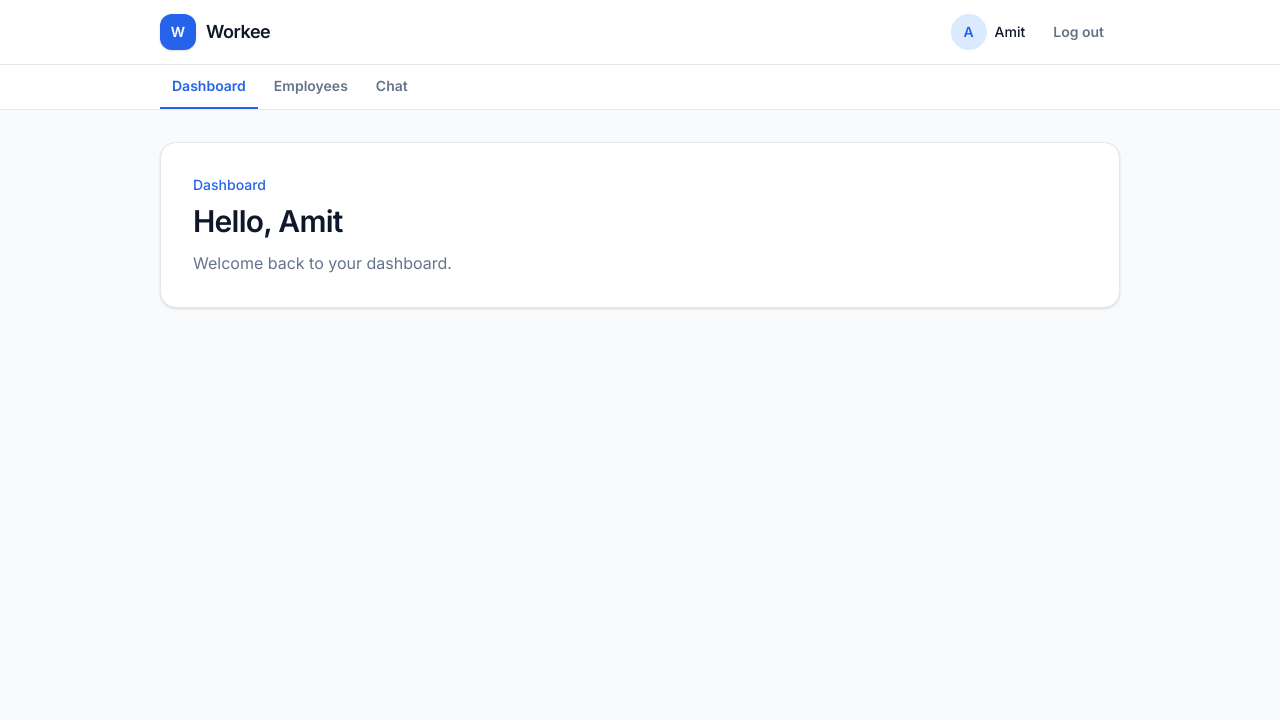
Test: Dashboard page › logs the user out and returns to login
Click the button "Log out" at (1079, 32), box 1037,10 -> 1120,54
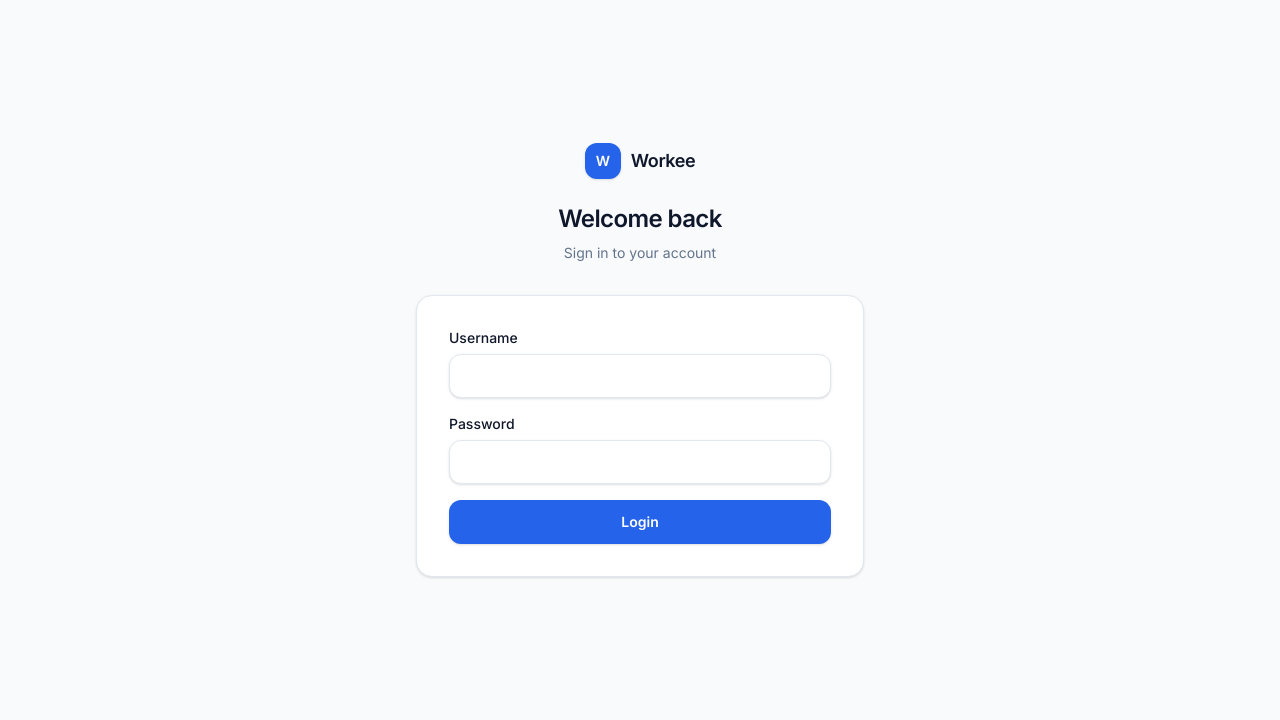
Result: the element with test id "login-page" is shown
